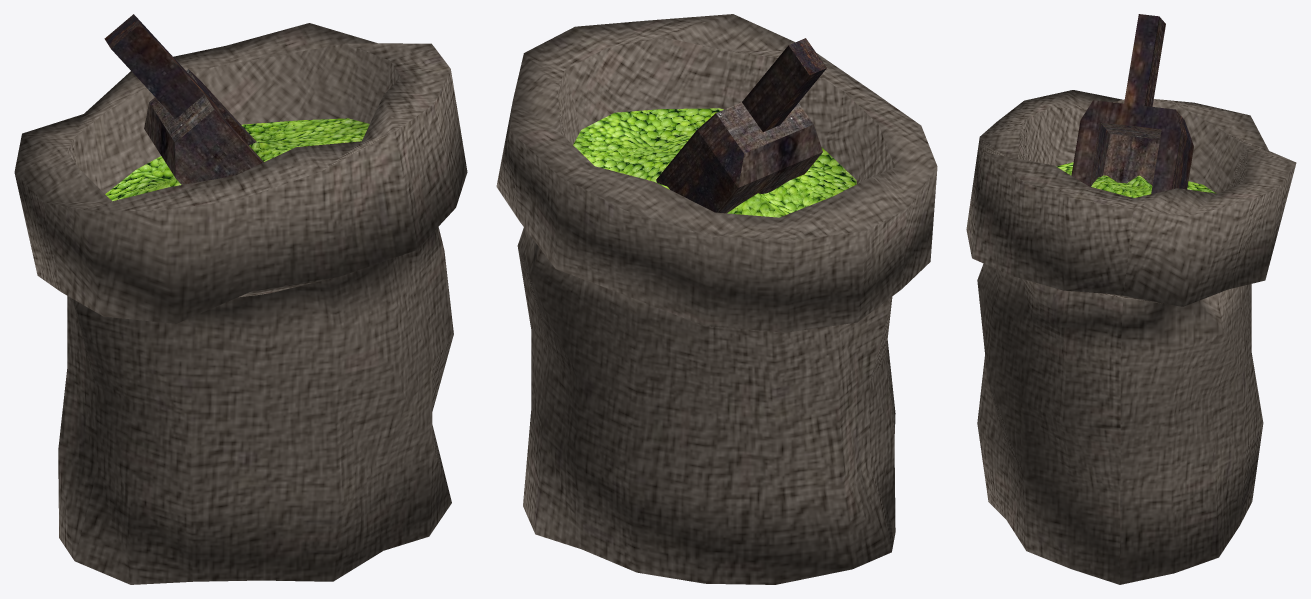
The model's file is open_sack2.fbx.
3 renders of one model, left to right at view 1: azimuth 30°, elevation 25°; view 2: azimuth 150°, elevation 25°; view 3: azimuth 270°, elevation 25°, orthographic. The views are drawn at different scales.
Visible parts, largest first — view 1: Sack2_2; view 2: Sack2_2; view 3: Sack2_2.
Boxes of the visible parts, left/top/right/bottom form: Sack2_2: left=14, top=14, right=467, bottom=584; Sack2_2: left=496, top=14, right=937, bottom=584; Sack2_2: left=966, top=14, right=1296, bottom=584.
Size of the model in its own units: 0.3258 by 0.4207 by 0.2768.
